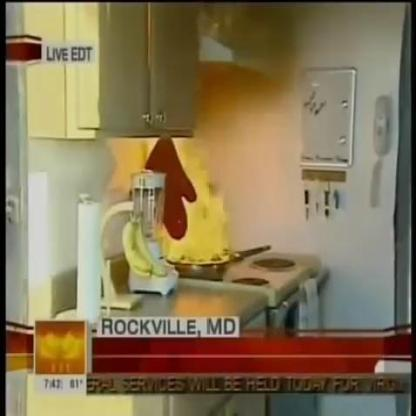fire: (132, 137, 232, 263)
